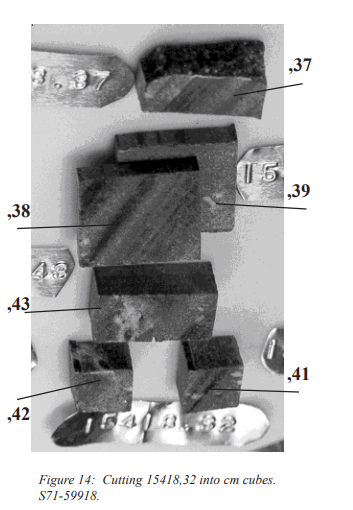Breccia: (65, 128, 259, 238), (45, 357, 261, 423), (84, 256, 229, 350), (126, 44, 276, 124), (79, 174, 200, 261)
